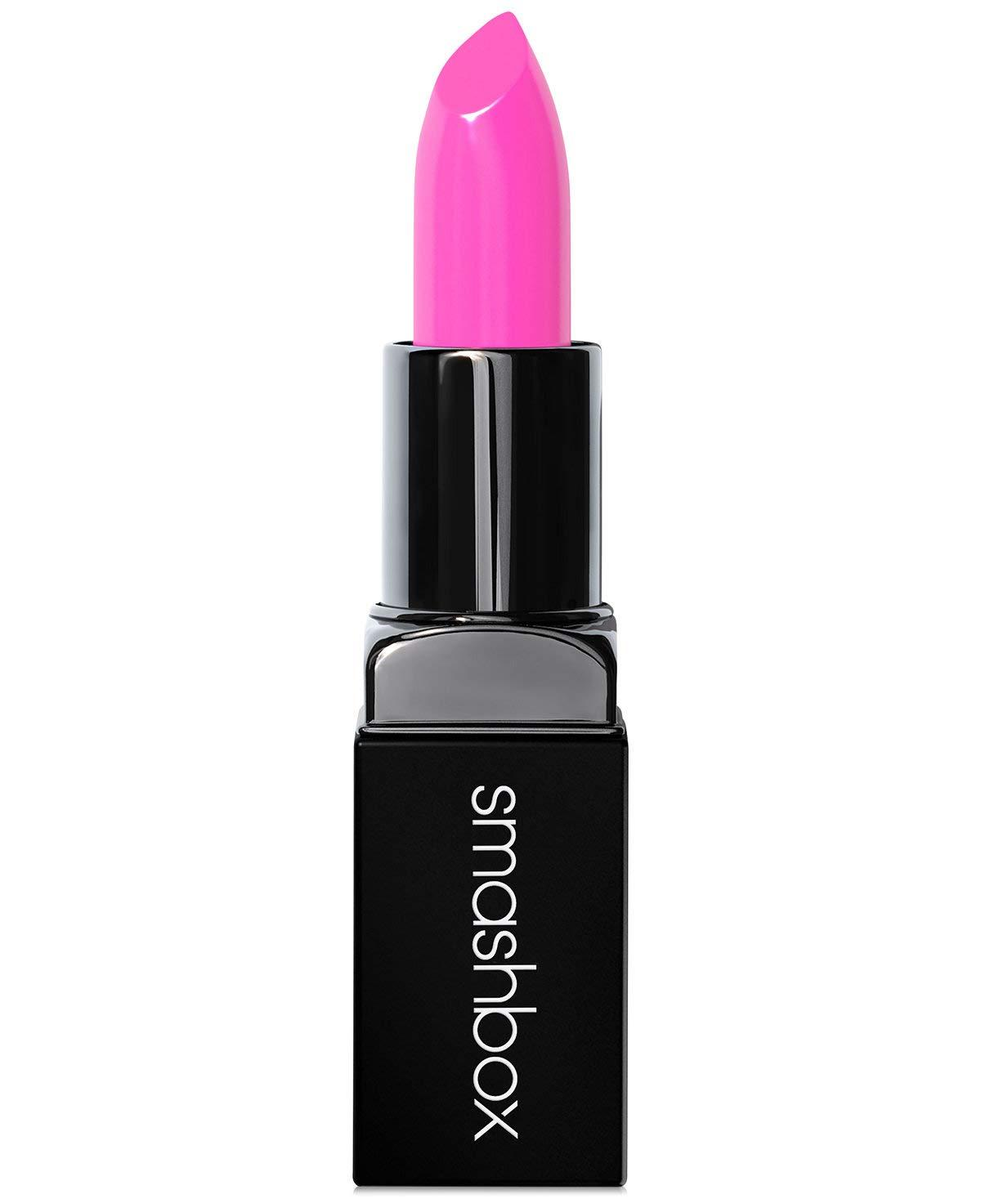lipstick: (337, 0, 660, 1178)
